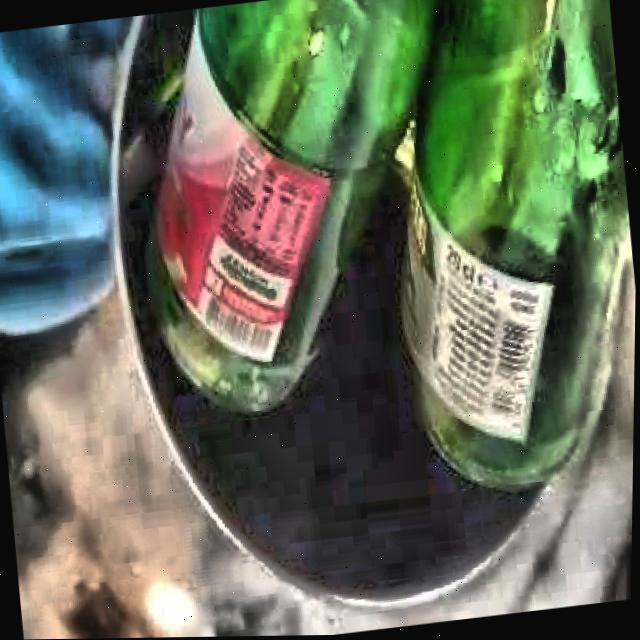glass: (153, 0, 630, 490)
